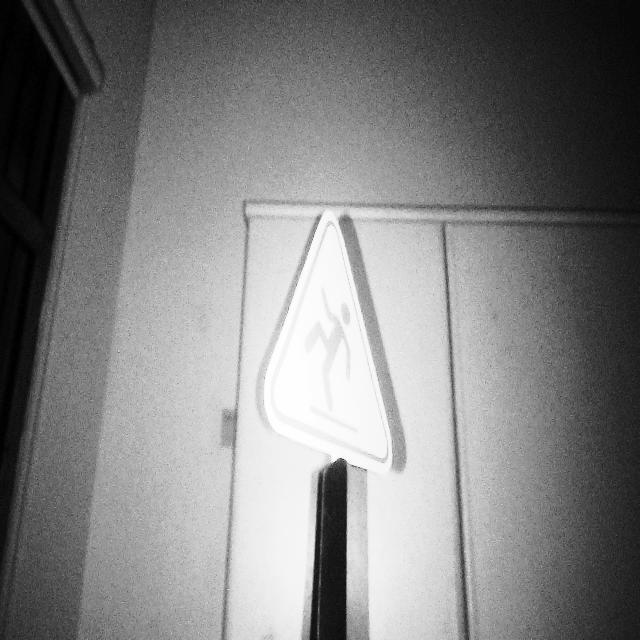Sign: (262, 210, 394, 476)
